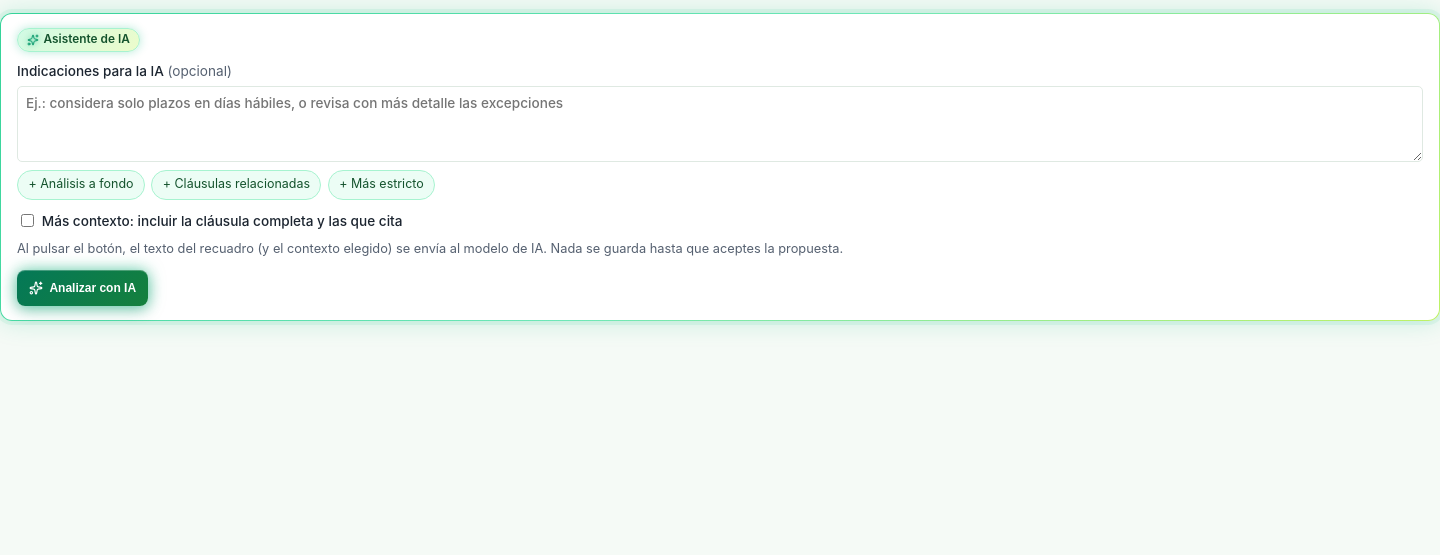
Scenario: AiAssistant › la IA propone y no se guarda nada hasta que la persona acepta
This screenshot has width=1440, height=555.
Later steps or results of the test are not shown.
Type "solo días hábiles" into the text box labelled "Indicaciones para la IA (opcional)" at (720, 124), box [17,86,1423,162]
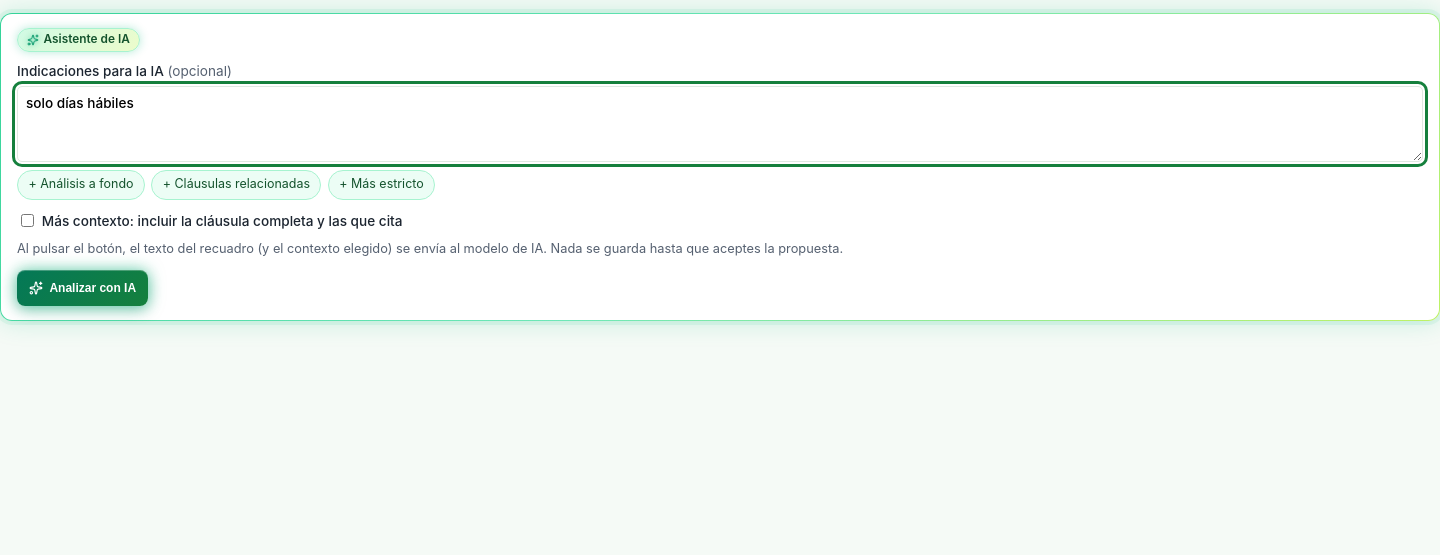
Click the button "Analizar con IA" at (83, 288), box [17,270,148,306]
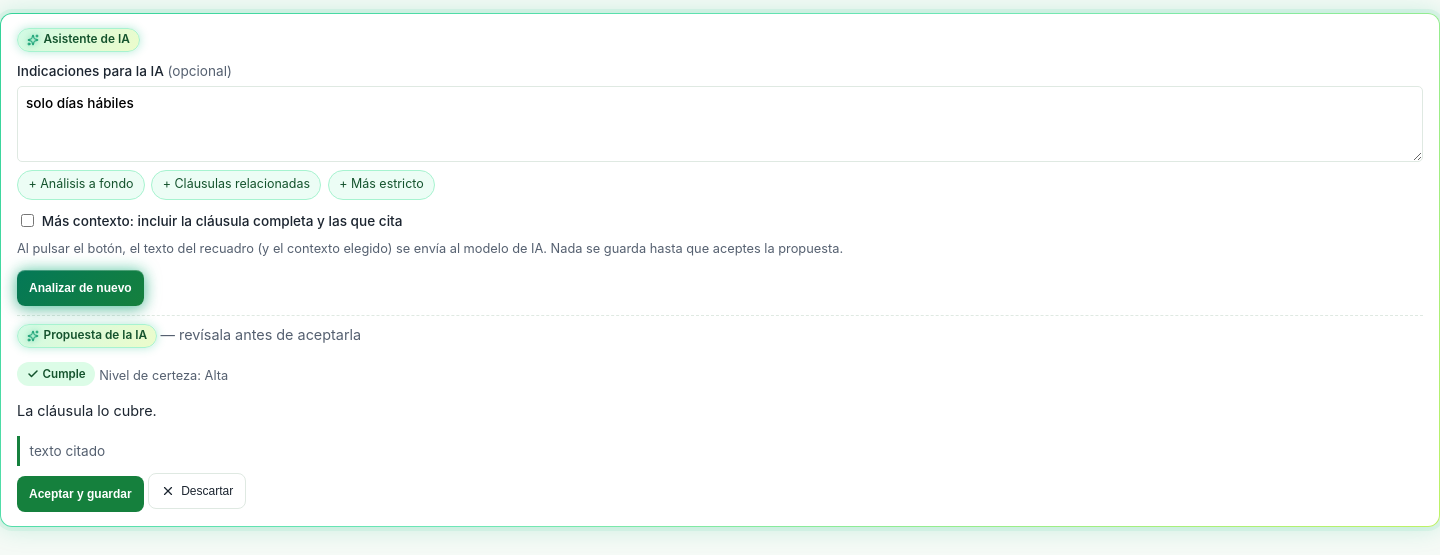
Check: the text "La cláusula lo cubre." is shown, box [17,402,157,419]
Check: the text "Nivel de certeza: Alta" is shown, box [99,368,228,383]
